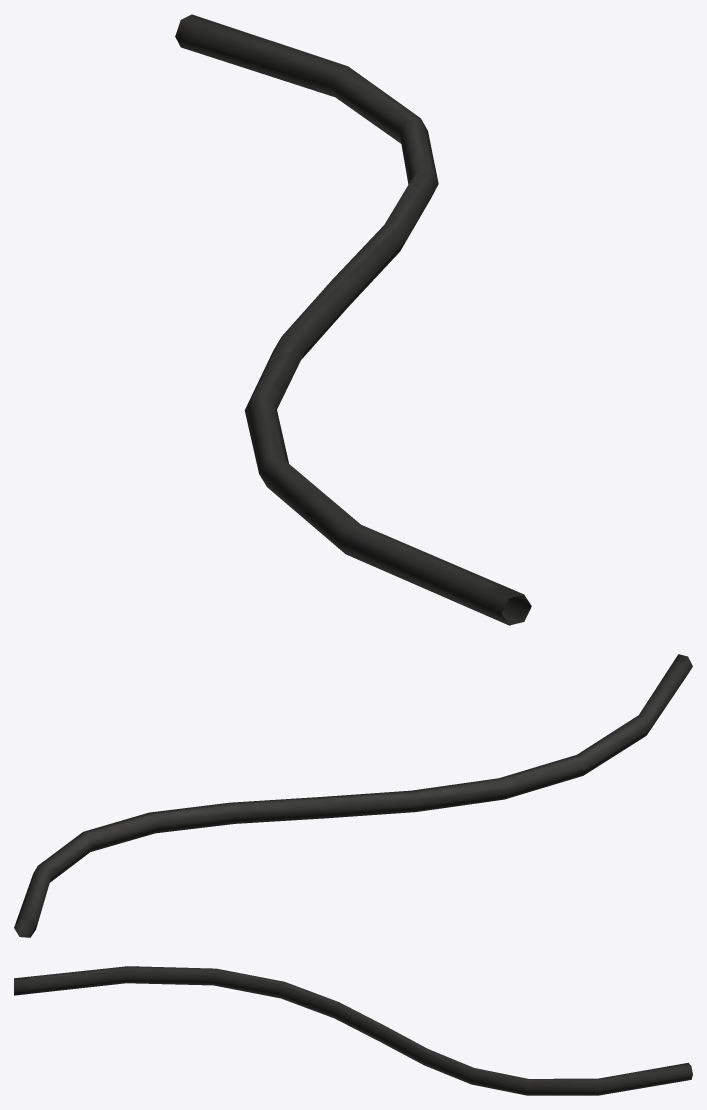
File: Wire 1.fbx
The picture shows the model from 3 angles, top to bottom: view 1: azimuth 30°, elevation 25°; view 2: azimuth 150°, elevation 25°; view 3: azimuth 270°, elevation 25°; orthographic projection. The views are drawn at different scales.
Parts seen in each view (by area): view 1: Wires; view 2: Wires; view 3: Wires.
Part boxes in pixels (left/top/right/bottom): Wires: left=175, top=14, right=531, bottom=625; Wires: left=14, top=654, right=692, bottom=937; Wires: left=14, top=966, right=692, bottom=1095.
Size of the model in its own units: 214 by 11.45 by 515.
